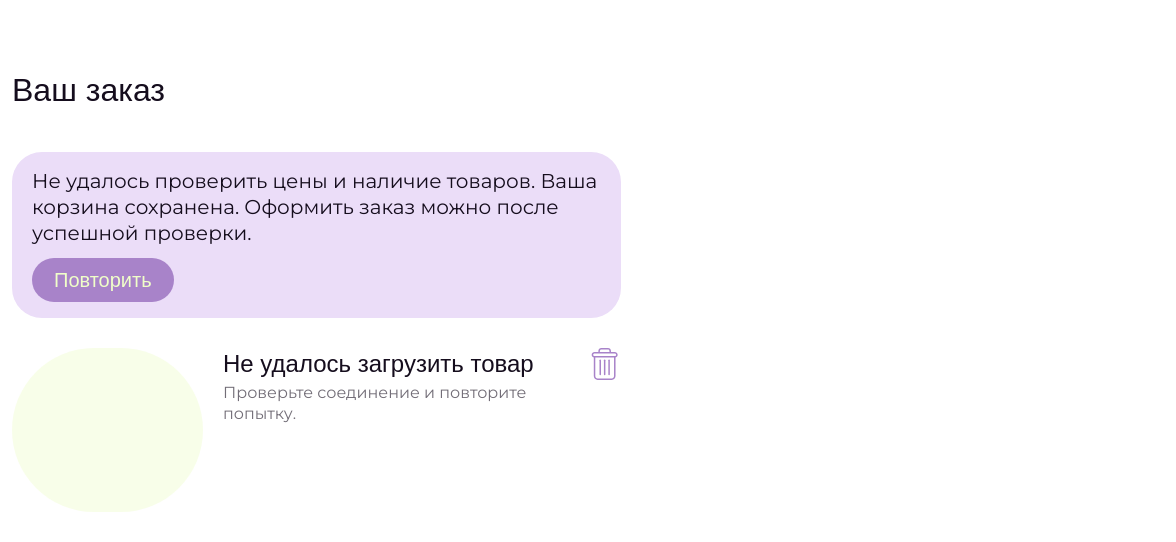
Test: CheckoutForm: данные товаров из API › ошибка API: сообщение с повтором, корзина сохранена, оформление закрыто; после повтора доступно
(page scrolled)
Expected: the message shows "Не удалось проверить цены", [32, 169, 597, 245]
Click the button "Повторить". click: (103, 280)
box: [32, 258, 174, 302]
(page scrolled)
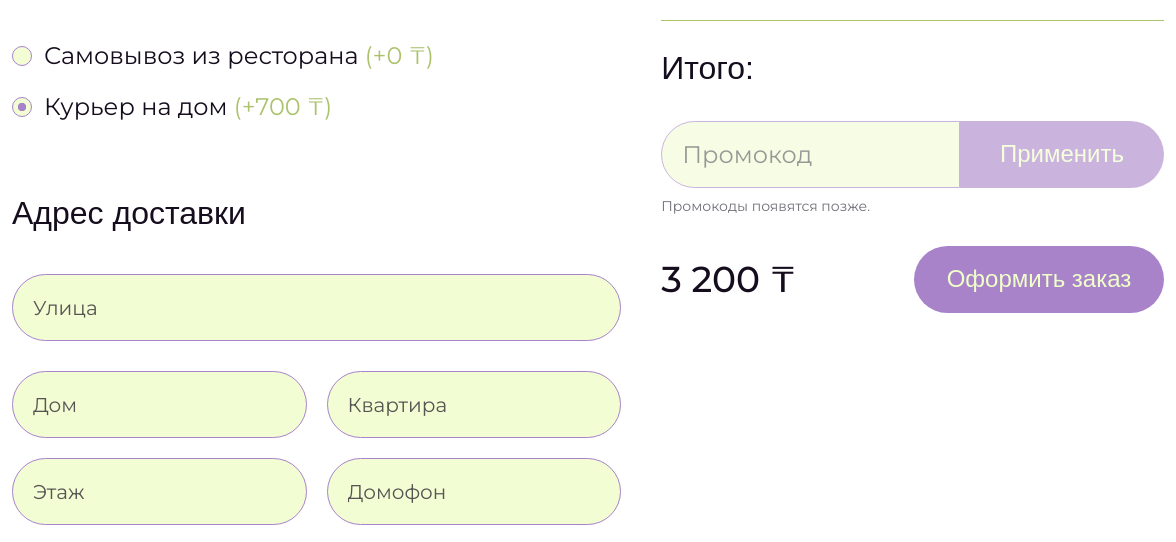
Now the button "Оформить заказ" is enabled, box [914, 246, 1164, 313]
